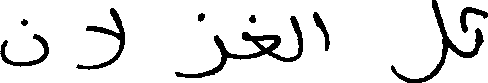ا: (311, 10, 329, 51)
ت: (459, 5, 486, 56)
ز: (173, 11, 228, 78)
ع: (287, 13, 303, 61)
غ: (242, 12, 280, 60)
ل: (391, 0, 448, 82)
لا: (75, 5, 125, 70)
ن: (0, 16, 49, 67)
